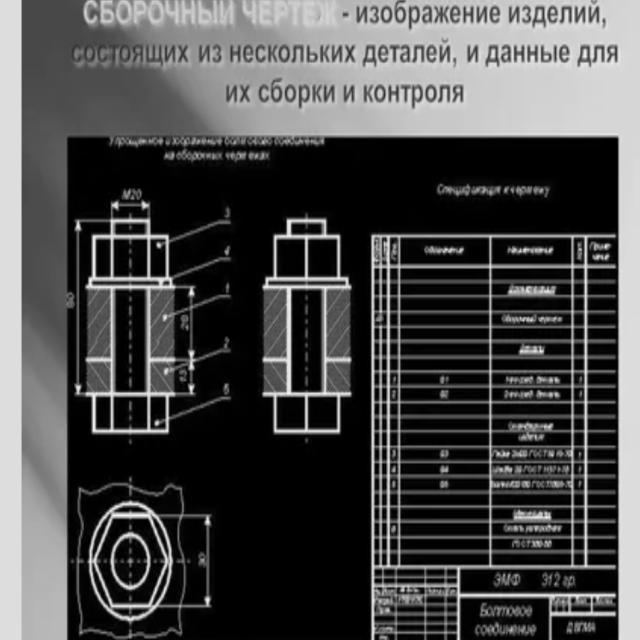marking_line: (187, 515, 212, 610), (172, 207, 234, 244), (175, 245, 232, 281), (177, 293, 232, 326), (74, 218, 84, 396), (177, 284, 197, 363), (176, 356, 196, 397), (111, 199, 152, 216)
numeric: (222, 381, 230, 395), (177, 367, 188, 376), (223, 337, 230, 350), (224, 243, 231, 256), (180, 322, 189, 331), (180, 313, 189, 322), (198, 558, 206, 568), (224, 207, 231, 218), (136, 188, 142, 199), (178, 376, 187, 383), (67, 291, 73, 301), (198, 552, 206, 559), (67, 301, 74, 309), (226, 282, 230, 295), (131, 188, 135, 199)
